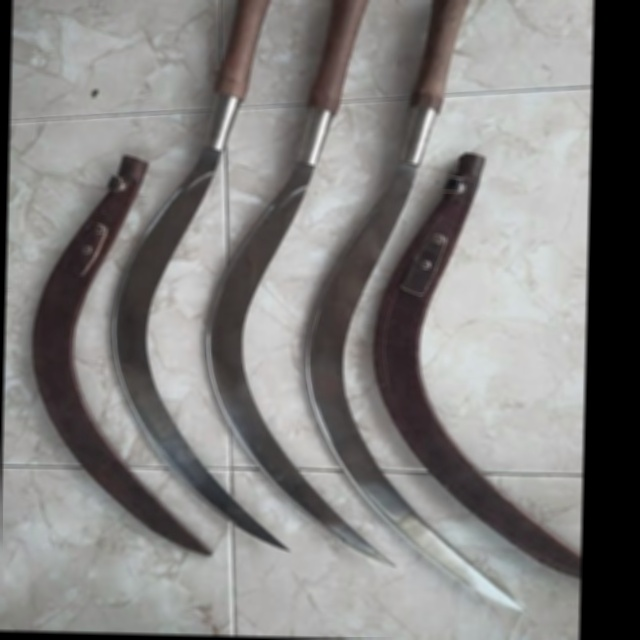Sharp-Object: (285, 0, 548, 619), (195, 0, 407, 571), (107, 0, 279, 589)
